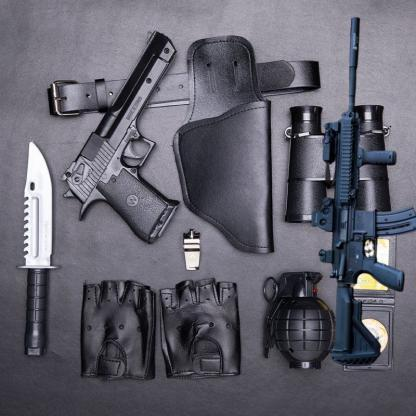Grenade: (259, 271, 336, 370)
Gun: (312, 17, 416, 367)
Knife: (17, 141, 61, 356)
Pistol: (60, 29, 180, 247)
